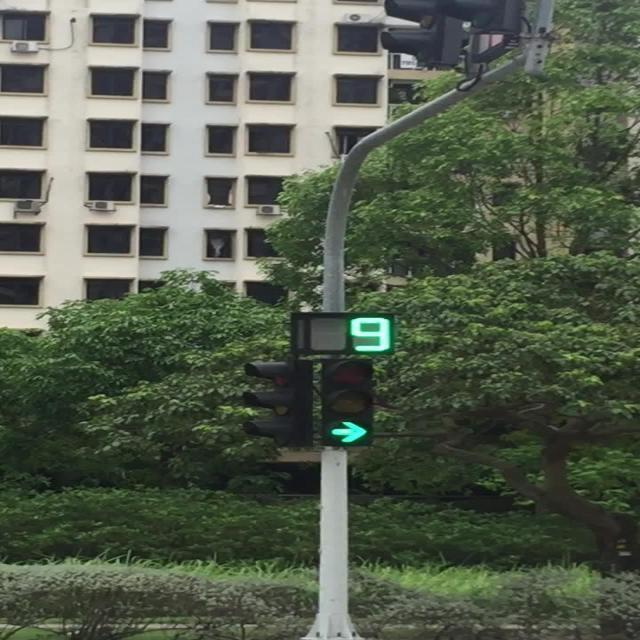green_light: (322, 358, 375, 447)
